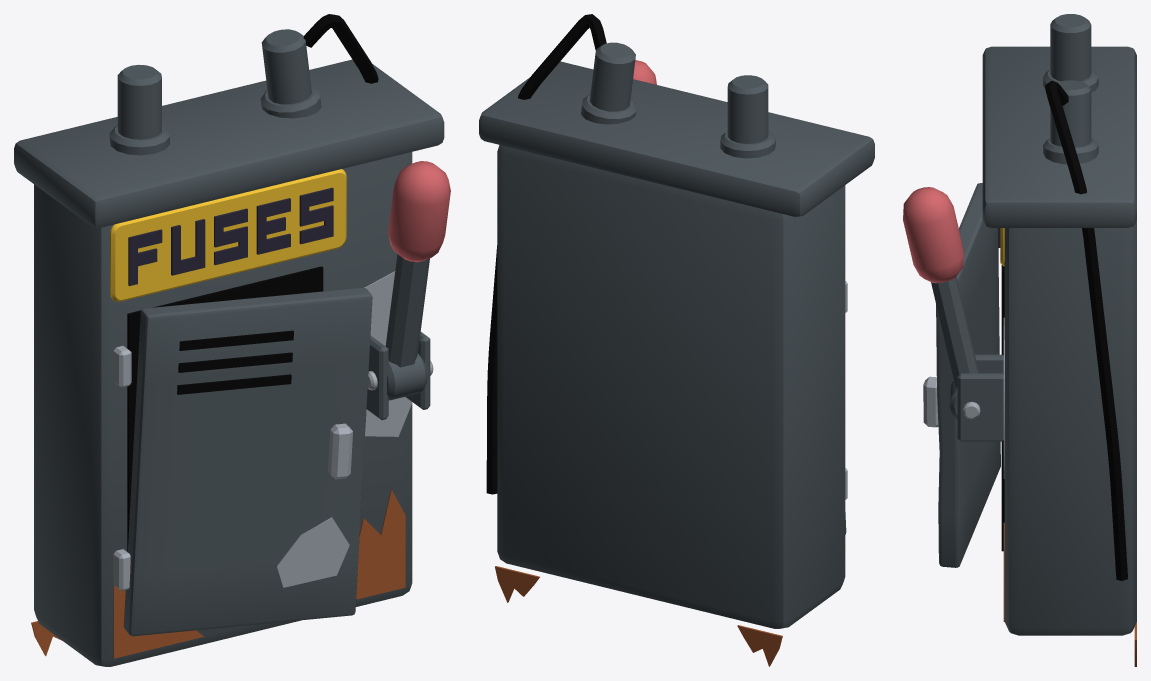
Rendered from fuse_box.glb.
3 renders of one model, left to right at view 1: azimuth 30°, elevation 25°; view 2: azimuth 150°, elevation 25°; view 3: azimuth 270°, elevation 25°, orthographic. The views are drawn at different scales.
Visible parts, largest first — view 1: Cabinet, Lever; view 2: Cabinet; view 3: Cabinet, Lever.
Boxes of the visible parts, x1,y1,x2,y2 form: Cabinet: (14,14,444,666); Lever: (385,161,450,400); Cabinet: (479,14,874,666); Cabinet: (923,14,1136,666); Lever: (903,187,978,419).
Bounding box in the file's own units: 0.51 × 0.8497 × 0.3184.
